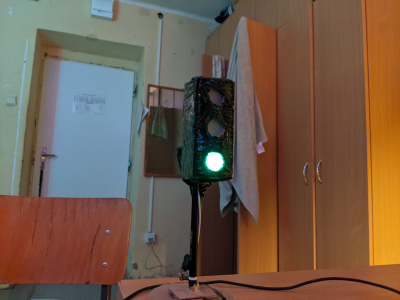trafficlight_green: (196, 80, 233, 176)
